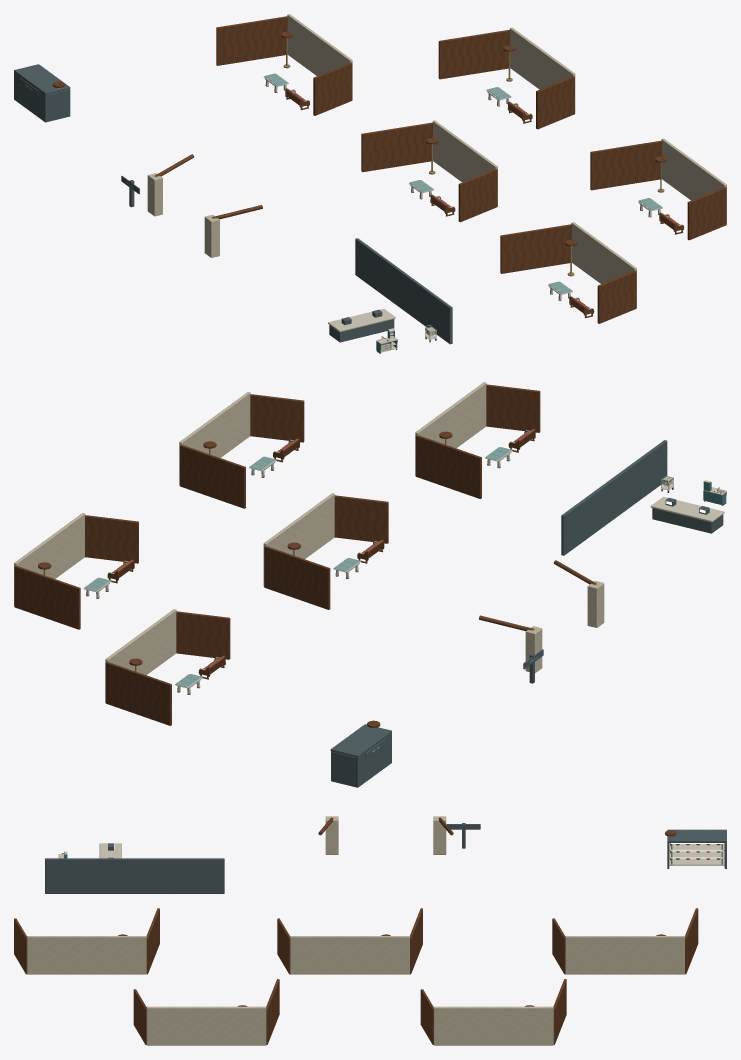
The model's file is SOL_D05_directory_08_source001.glb.
3 renders of one model, top to bottom at view 1: azimuth 30°, elevation 25°; view 2: azimuth 150°, elevation 25°; view 3: azimuth 270°, elevation 25°, orthographic. The views are drawn at different scales.
Visible parts, largest first — view 1: C_observation_return, C_care_bay_fore1, C_care_bay_fore3, C_care_bay_fore2, C_care_bay_fore4, C_care_bay_fore0, C_care_bay_rear0, C_care_bay_rear1, C_care_bay_rear2, C_care_bay_rear3, C_care_bay_rear4, C_care_bay_aft0 (+11 smaller); view 2: C_observation_return, C_care_bay_fore1, C_care_bay_fore2, C_care_bay_fore0, C_care_bay_fore4, C_care_bay_fore3, C_care_bay_rear2, C_care_bay_rear0, C_care_bay_rear4, C_care_bay_rear3, C_care_bay_rear1, C_care_bay_aft3 (+10 smaller); view 3: C_observation_return, C_care_bay_rear3, C_care_bay_rear1, C_care_bay_rear0, C_care_bay_rear2, C_care_bay_rear4, C_care_top, C_care_bay_fore4, C_care_bay_fore1, C_care_bay_fore3, C_care_bay_fore0, C_care_bay_aft2 (+8 smaller).
Part boxes in pixels (<box>): C_observation_return: <box>355,238,452,344</box>; C_care_bay_fore1: <box>438,29,510,79</box>; C_care_bay_fore3: <box>590,140,661,190</box>; C_care_bay_fore2: <box>361,122,432,172</box>; C_care_bay_fore4: <box>500,224,571,273</box>; C_care_bay_fore0: <box>216,16,287,65</box>; C_care_bay_rear0: <box>287,14,352,99</box>; C_care_bay_rear1: <box>510,27,575,113</box>; C_care_bay_rear2: <box>432,120,497,205</box>; C_care_bay_rear3: <box>661,138,726,223</box>; C_care_bay_rear4: <box>571,222,636,307</box>; C_care_bay_aft0: <box>313,62,352,115</box>; C_observation_return: <box>561,440,667,555</box>; C_care_bay_fore1: <box>14,566,80,629</box>; C_care_bay_fore2: <box>264,546,330,609</box>; C_care_bay_fore0: <box>105,662,171,725</box>; C_care_bay_fore4: <box>415,435,481,498</box>; C_care_bay_fore3: <box>180,445,245,508</box>; C_care_bay_rear2: <box>263,493,334,586</box>; C_care_bay_rear0: <box>105,609,176,702</box>; C_care_bay_rear4: <box>415,382,486,475</box>; C_care_bay_rear3: <box>179,392,250,485</box>; C_care_bay_rear1: <box>14,513,85,606</box>; C_care_bay_aft3: <box>250,394,304,442</box>; C_observation_return: <box>45,858,224,893</box>; C_care_bay_rear3: <box>146,1006,266,1045</box>; C_care_bay_rear1: <box>434,1006,553,1045</box>; C_care_bay_rear0: <box>565,936,684,974</box>; C_care_bay_rear2: <box>290,936,409,974</box>; C_care_bay_rear4: <box>27,936,146,974</box>; C_care_top: <box>667,830,726,842</box>; C_care_bay_fore4: <box>146,908,159,974</box>; C_care_bay_fore1: <box>553,979,566,1044</box>; C_care_bay_fore3: <box>266,979,279,1044</box>; C_care_bay_fore0: <box>685,908,698,974</box>; C_care_bay_aft2: <box>277,918,290,974</box>.
Size of the model in its own units: 39.29 by 3.81 by 59.6.
29 materials, 28 textured.
